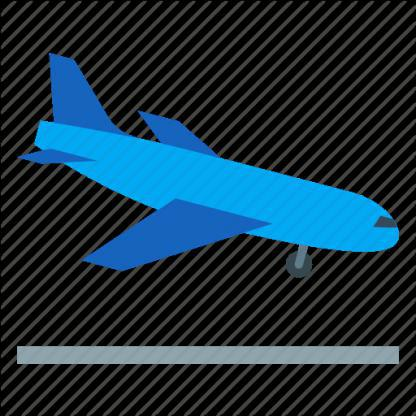CIV_Plane: (18, 50, 400, 288)
